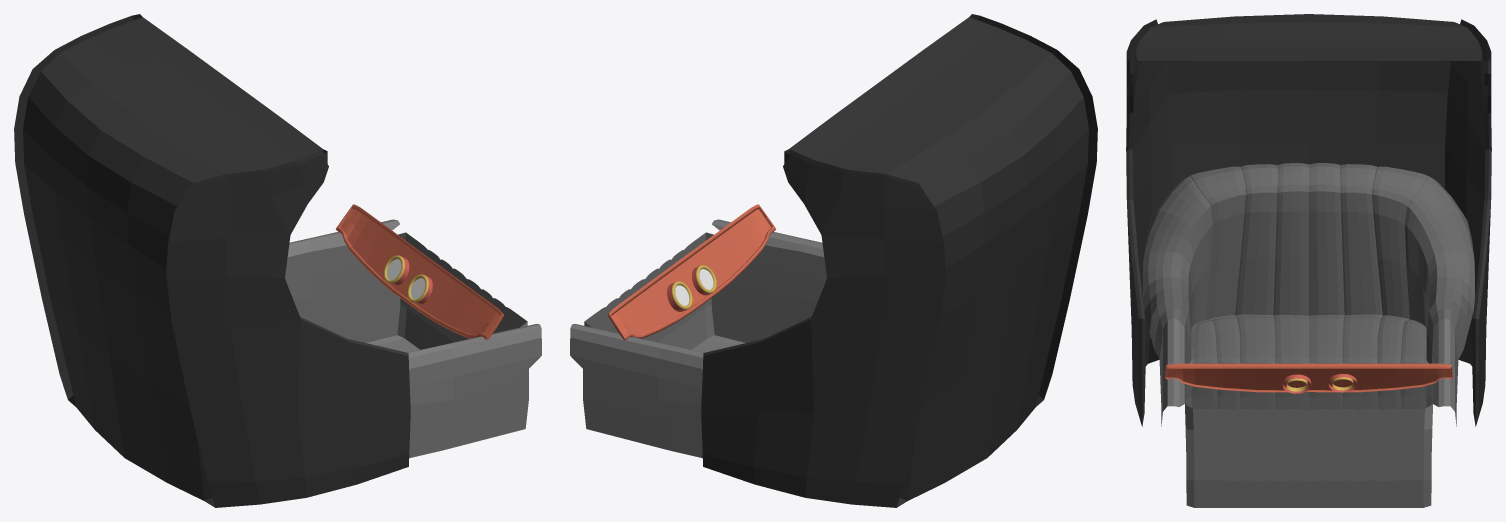
File: Car Compiled.fbx
3 renders of one model, left to right at view 1: azimuth 30°, elevation 25°; view 2: azimuth 150°, elevation 25°; view 3: azimuth 270°, elevation 25°, orthographic. The views are drawn at different scales.
Parts seen in each view (by area): view 1: Car_Back, Car_Seat, Car_Dashboard, Encasing_Torus; view 2: Car_Back, Car_Seat, Car_Dashboard, Encasing_Torus; view 3: Car_Seat, Car_Back, Car_Dashboard, Encasing_Torus.
Boxes of the visible parts, x1,y1,x2,y2 form: Car_Back: [14, 14, 410, 507]; Car_Seat: [285, 219, 541, 457]; Car_Dashboard: [336, 204, 503, 340]; Encasing_Torus: [383, 255, 432, 304]; Car_Back: [701, 14, 1097, 507]; Car_Seat: [570, 219, 826, 457]; Car_Dashboard: [608, 204, 775, 340]; Encasing_Torus: [667, 265, 716, 311]; Car_Seat: [1143, 163, 1474, 507]; Car_Back: [1126, 14, 1491, 426]; Car_Dashboard: [1165, 363, 1452, 392]; Encasing_Torus: [1282, 374, 1357, 393].
Size of the model in its own units: 474 by 423 by 412.
